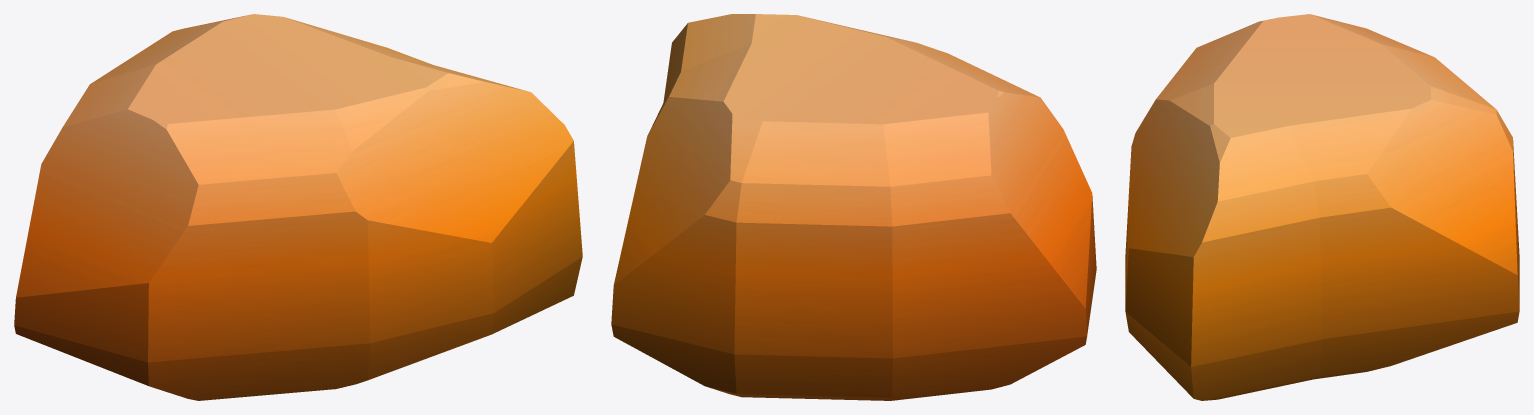
The model's file is boulder5.FBX.
3 renders of one model, left to right at view 1: azimuth 30°, elevation 25°; view 2: azimuth 150°, elevation 25°; view 3: azimuth 270°, elevation 25°, orthographic. The views are drawn at different scales.
Visible parts, largest first — view 1: boulder5; view 2: boulder5; view 3: boulder5.
Part boxes in pixels (x1,y1,x2,y2): boulder5: (14,14,582,400); boulder5: (611,14,1096,400); boulder5: (1125,14,1519,400).
Size of the model in its own units: 0.8 by 0.6 by 0.399.
Materials: 1 (1 with a texture image).
